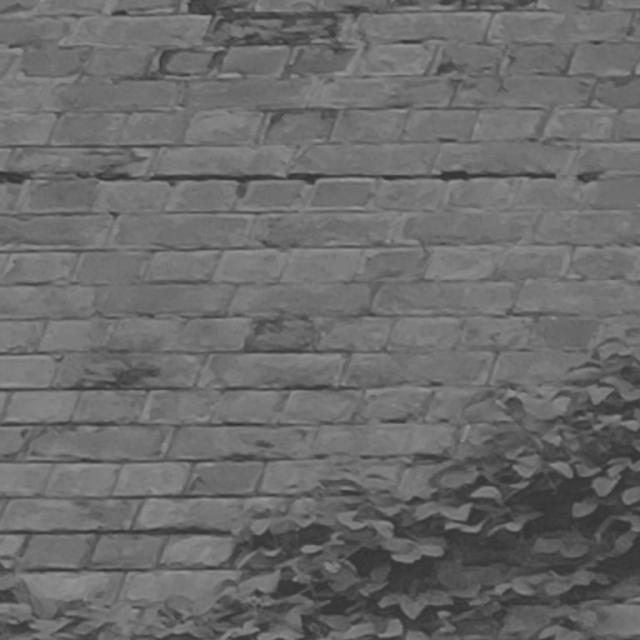crack: (1, 170, 604, 183)
